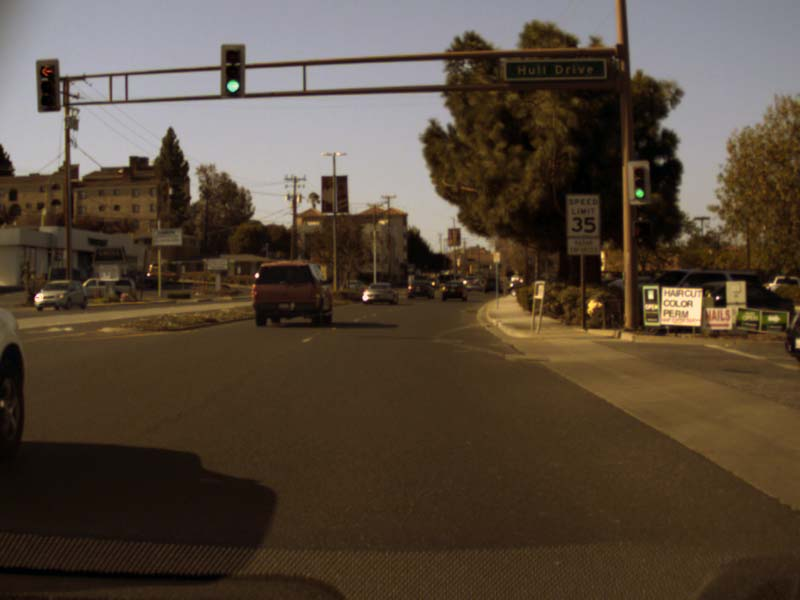Green: (220, 43, 243, 96), (628, 163, 648, 203)
Red: (37, 59, 57, 109)
